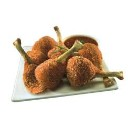chicken_lollipop: (41, 24, 81, 93), (69, 53, 128, 87), (13, 36, 44, 97)
